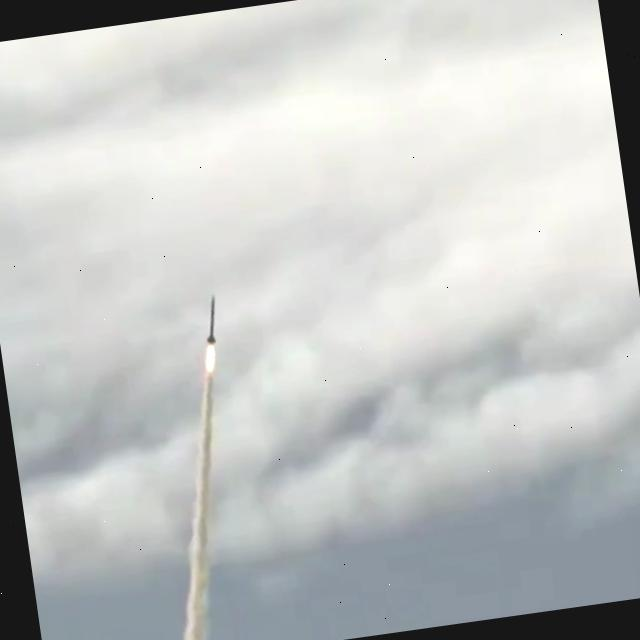rocket: (207, 302, 216, 344)
smoke_trail_with_rocket: (183, 296, 217, 640)
